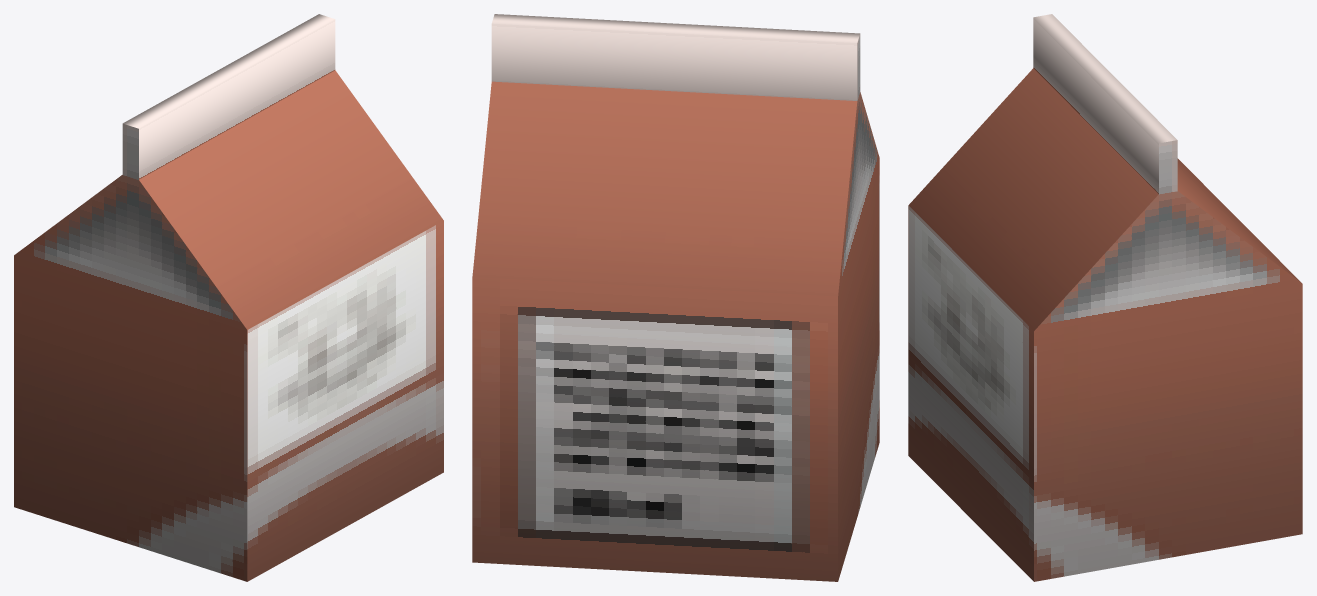
Rendered from AL_Cream_Static.fbx.
The picture shows the model from 3 angles, left to right: view 1: azimuth 30°, elevation 25°; view 2: azimuth 150°, elevation 25°; view 3: azimuth 270°, elevation 25°; orthographic projection. The views are drawn at different scales.
Visible parts, largest first — view 1: MilkPersonalsized; view 2: MilkPersonalsized; view 3: MilkPersonalsized.
Boxes of the visible parts, box(x1,y1,x2,y2) form: MilkPersonalsized: box(14, 14, 443, 581); MilkPersonalsized: box(472, 14, 879, 581); MilkPersonalsized: box(908, 14, 1302, 581).
Size of the model in its own units: 0.2395 by 0.2792 by 0.25.
